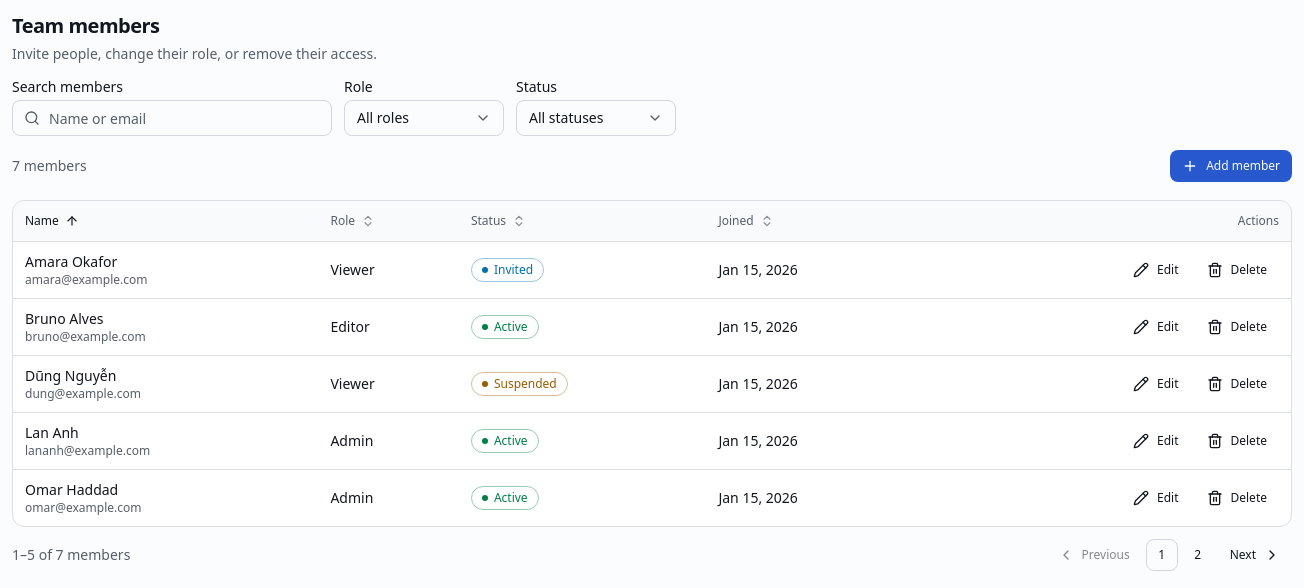
Test: CrudManagementPage › search and filters › clears the search and the filters together
Type "a" into the search field labelled "Search members" at x=172, y=118, box left=12, top=100, right=332, bottom=136
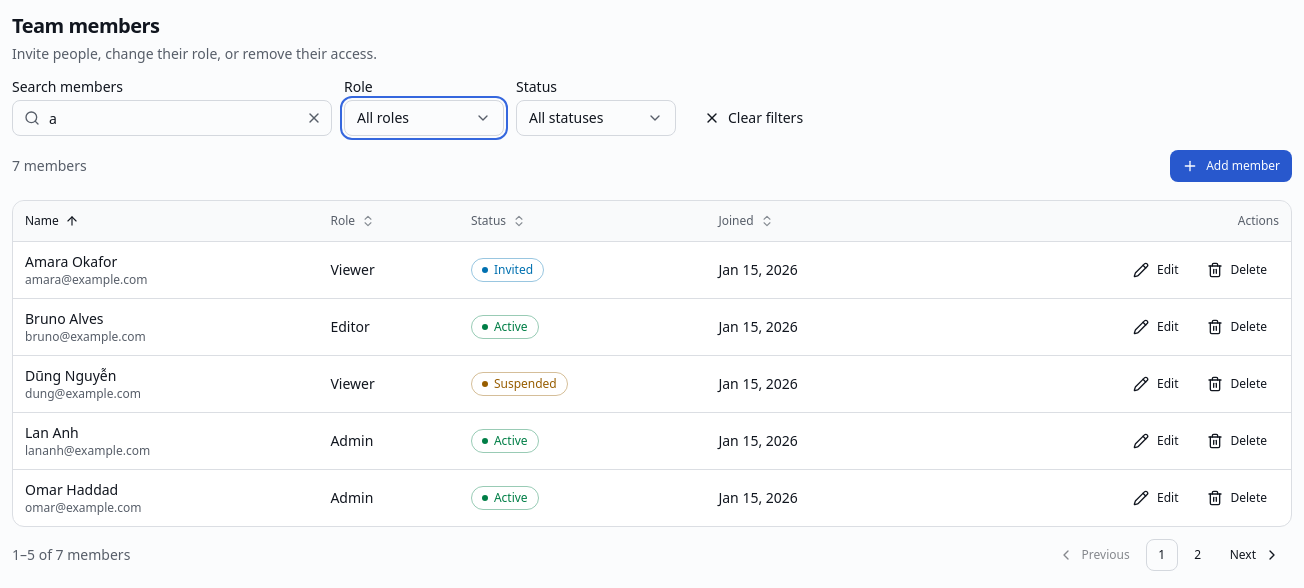
Press Enter
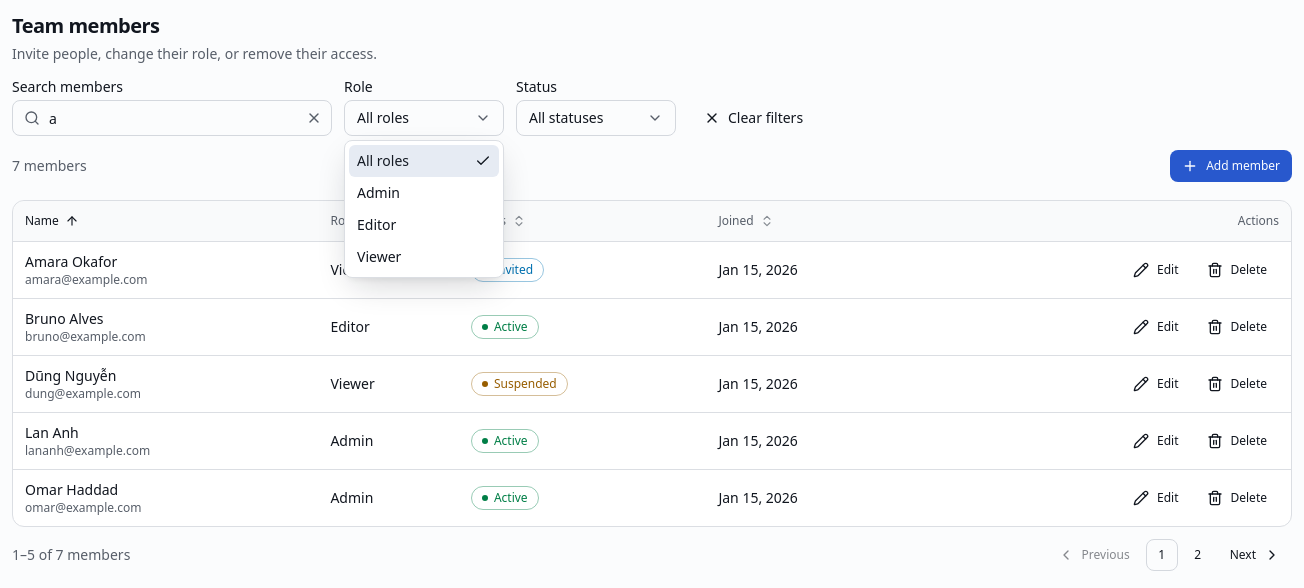
Click the option "Admin" at x=378, y=192, box left=357, top=183, right=400, bottom=202
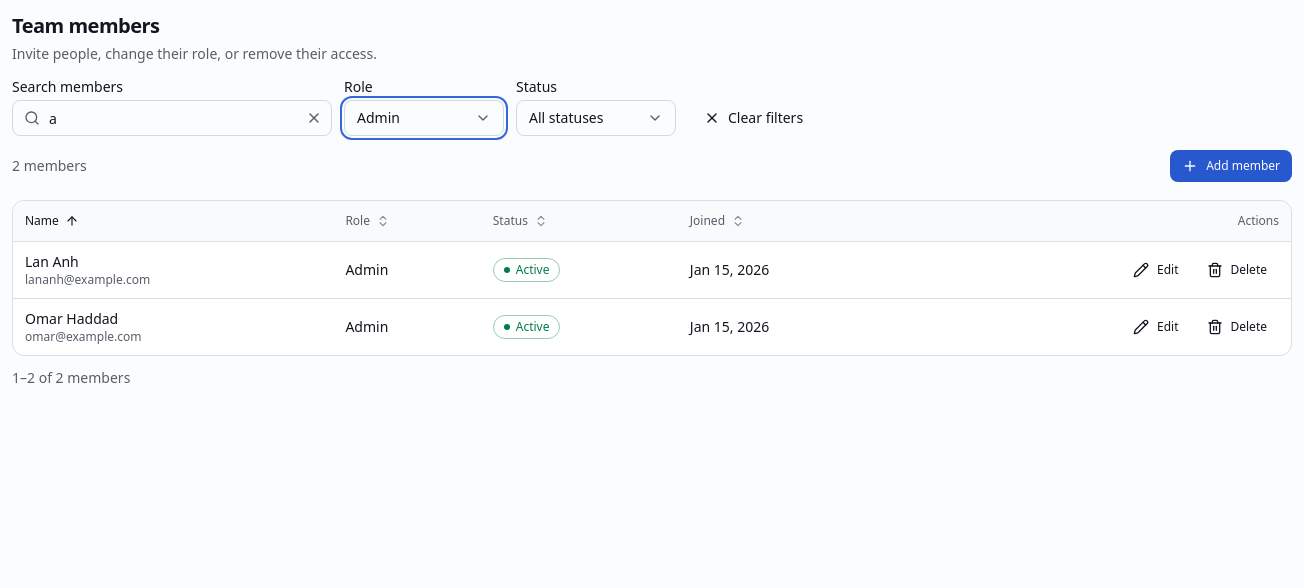
Click the button "Clear filters" at x=754, y=118, box left=688, top=100, right=819, bottom=136
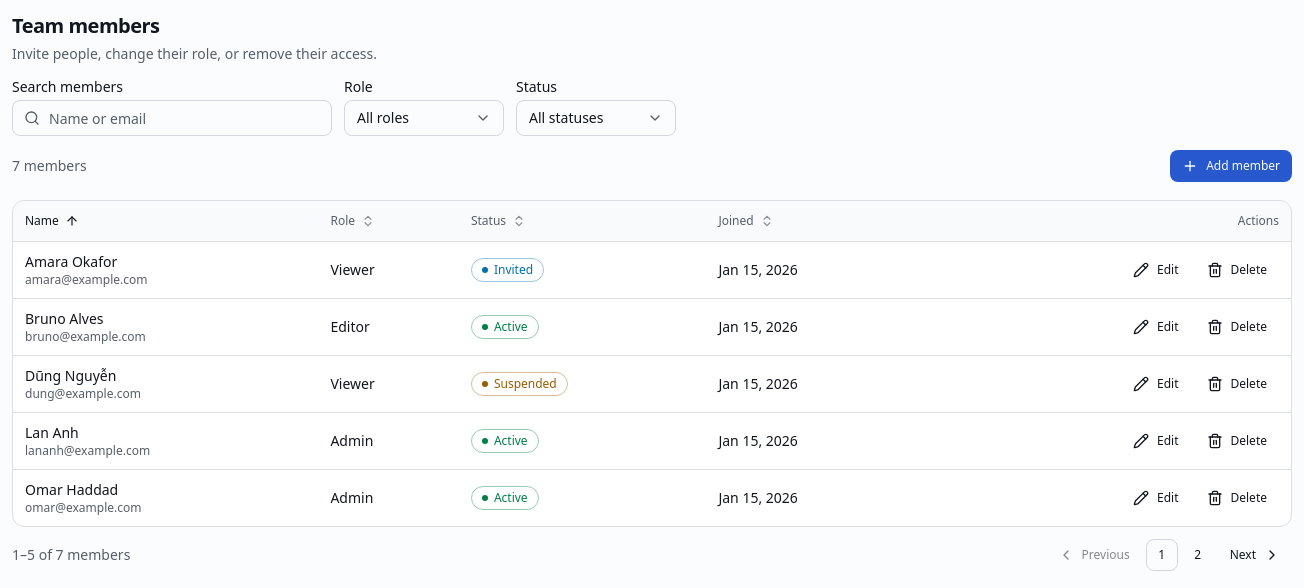
Expected: the search field labelled "Search members" is empty, left=12, top=100, right=332, bottom=136
Expected: the text "7 members" is shown, left=12, top=156, right=87, bottom=176
